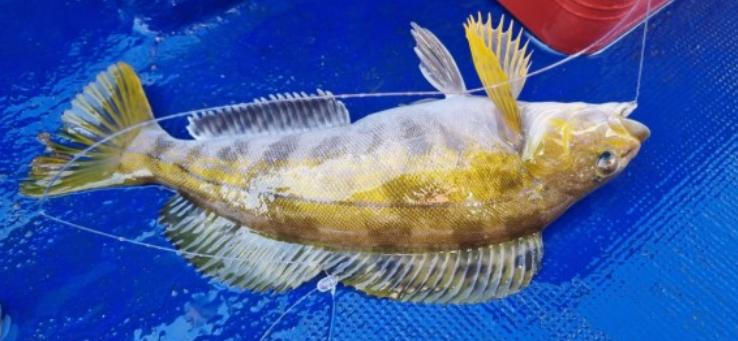fish: (20, 15, 648, 302)
